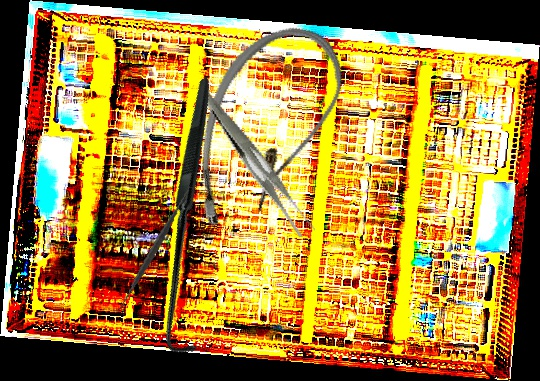Cannula: (176, 8, 357, 251)
Dressing Forceps: (198, 68, 316, 254)
Hook Surgical: (50, 75, 338, 363)
Spatula Surgical: (93, 186, 215, 313)
